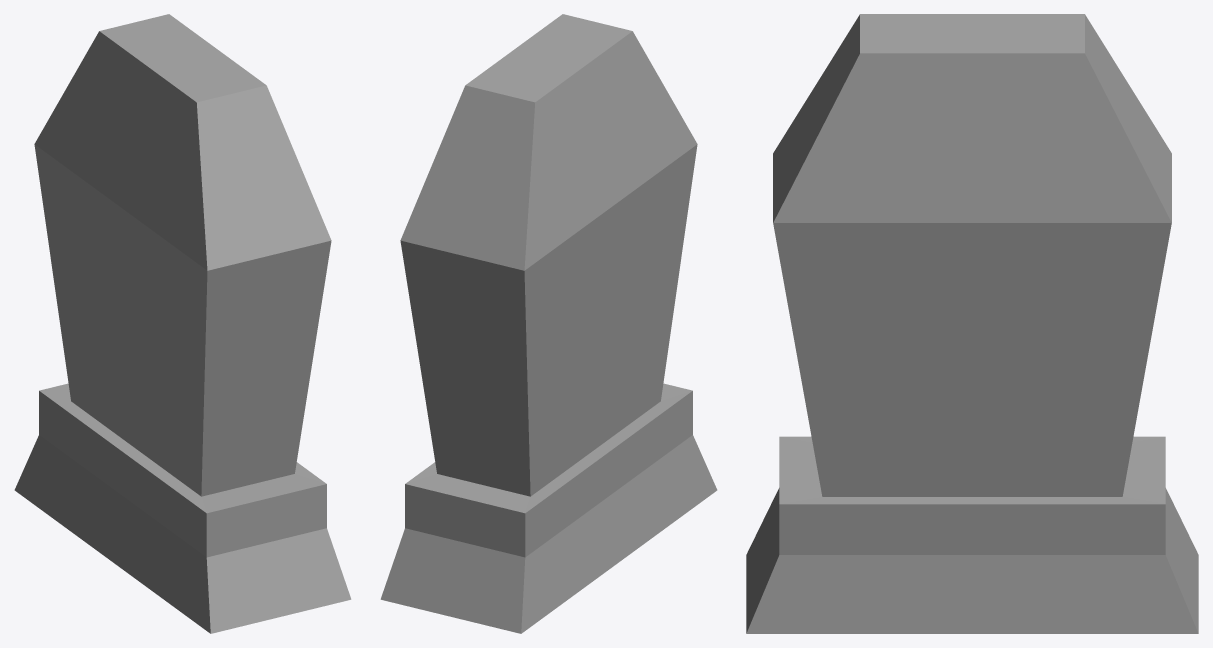
The model's file is tombstone1.fbx.
3 views of the same model, side by side, from view 1: azimuth 30°, elevation 25°; view 2: azimuth 150°, elevation 25°; view 3: azimuth 270°, elevation 25° (orthographic). The views are drawn at different scales.
Visible parts, largest first — view 1: tombstone1; view 2: tombstone1; view 3: tombstone1.
Boxes of the visible parts, x1=… form: tombstone1: x1=14, y1=14, x2=351, y2=633; tombstone1: x1=380, y1=14, x2=717, y2=633; tombstone1: x1=746, y1=14, x2=1198, y2=633.
Bounding box in the file's own units: 81.7 × 270 × 197.
